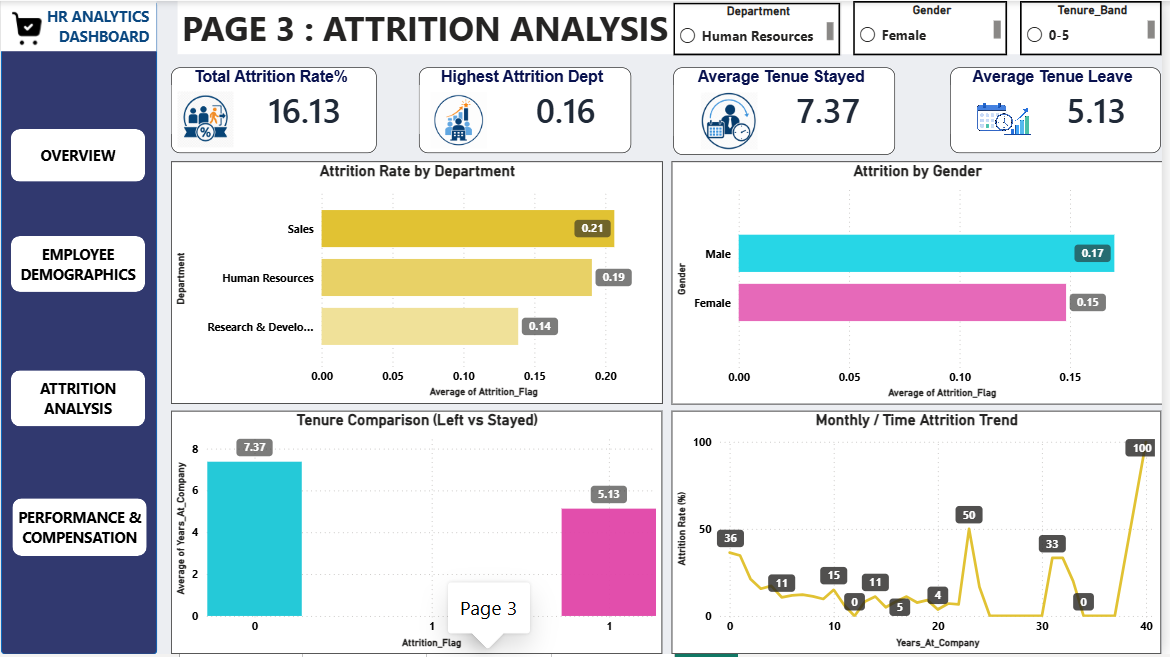

The dashboard page shown, as its layout file describes it:
{"tool":"powerbi","page":{"name":"Page 3","canvas":[1280,720],"ordinal":2},"visuals":[{"type":"shape","box":[0,0,172.3,720.6],"z":0},{"type":"textbox","box":[195.1,0,1087.8,58.5],"z":1000},{"type":"cardVisual","title":"Total Attrition Rate%","fields":{"Data":["Excel_HR_Cleaned_Data.Attrition Rate (%)"]},"box":[187.5,73.2,226.8,94.7],"z":2000},{"type":"cardVisual","title":"Average Tenue Stayed","fields":{"Data":["Excel_HR_Cleaned_Data.AverageTenure_Stayed"]},"box":[741.2,73.2,244.7,96.4],"z":3000},{"type":"cardVisual","title":"Highest Attrition Dept","fields":{"Data":["Excel_HR_Cleaned_Data.Department with Highest Attrition"]},"box":[460.8,73.2,234,94.7],"z":4000},{"type":"cardVisual","title":"Average Tenue Leave","fields":{"Data":["Excel_HR_Cleaned_Data.AverageTenure_Left"]},"box":[1046.5,73.2,232.2,94.7],"z":5000},{"type":"clusteredBarChart","title":"Attrition Rate by Department","fields":{"Category":["Excel_HR_Cleaned_Data.Department"],"Y":["Avg(Excel_HR_Cleaned_Data.Attrition_Flag)"]},"box":[187.5,176.8,542,267],"z":6000},{"type":"clusteredBarChart","title":"Attrition by Gender","fields":{"Category":["Excel_HR_Cleaned_Data.Gender"],"Y":["Avg(Excel_HR_Cleaned_Data.Attrition_Flag)"]},"box":[739.4,176.8,541.1,267.9],"z":7000},{"type":"clusteredColumnChart","title":"Tenure Comparison (Left vs Stayed)","fields":{"Category":["Excel_HR_Cleaned_Data.Attrition_Flag"],"Y":["Avg(Excel_HR_Cleaned_Data.Years_At_Company)"]},"box":[187.5,451.8,541.1,267.9],"z":8000},{"type":"lineChart","title":"Monthly / Time Attrition Trend","fields":{"Category":["Excel_HR_Cleaned_Data.Years_At_Company"],"Y":["Excel_HR_Cleaned_Data.Attrition Rate (%)"]},"box":[739.4,451.8,539.3,267.9],"z":9000},{"type":"actionButton","box":[12.4,548.9,148.3,63.5],"z":10000},{"type":"actionButton","box":[10.6,407.7,148.3,61.8],"z":11000},{"type":"actionButton","box":[10.6,259.4,148.3,61.8],"z":12000},{"type":"actionButton","box":[10.6,141.2,148.3,58.2],"z":13000},{"type":"actionButton","box":[0,0,171.4,55.4],"z":14000},{"type":"image","box":[195.3,94.7,61.9,71.5],"z":15000},{"type":"image","box":[473.3,94.7,62.5,73.2],"z":16000},{"type":"image","box":[1060.8,98.2,87.5,67.9],"z":17000},{"type":"listSlicer","fields":{"Values":["Excel_HR_Cleaned_Data.Department"]},"box":[742,2,184,58],"z":18000},{"type":"listSlicer","fields":{"Values":["Excel_HR_Cleaned_Data.Tenure_Band"]},"box":[1124,0,156,60],"z":19000},{"type":"listSlicer","fields":{"Values":["Excel_HR_Cleaned_Data.Gender"]},"box":[940,0,170,60],"z":20000},{"type":"image","box":[771.5,98.2,62.5,67.9],"z":20001}]}

Visuals, with their boxes on the page's 1280x720 design canvas (x1, y1, x2, y2). These are canvas units, not pixel positions in the 1170x657 screenshot, which may show the page scaled, cropped or inside an application window:
shape: box(0, 0, 172, 721)
textbox: box(195, 0, 1283, 58)
"Total Attrition Rate%" cardVisual: box(188, 73, 414, 168)
"Average Tenue Stayed" cardVisual: box(741, 73, 986, 170)
"Highest Attrition Dept" cardVisual: box(461, 73, 695, 168)
"Average Tenue Leave" cardVisual: box(1046, 73, 1279, 168)
"Attrition Rate by Department" clusteredBarChart: box(188, 177, 730, 444)
"Attrition by Gender" clusteredBarChart: box(739, 177, 1280, 445)
"Tenure Comparison (Left vs Stayed)" clusteredColumnChart: box(188, 452, 729, 720)
"Monthly / Time Attrition Trend" lineChart: box(739, 452, 1279, 720)
actionButton: box(12, 549, 161, 612)
actionButton: box(11, 408, 159, 470)
actionButton: box(11, 259, 159, 321)
actionButton: box(11, 141, 159, 199)
actionButton: box(0, 0, 171, 55)
image: box(195, 95, 257, 166)
image: box(473, 95, 536, 168)
image: box(1061, 98, 1148, 166)
listSlicer - Excel_HR_Cleaned_Data.Department: box(742, 2, 926, 60)
listSlicer - Excel_HR_Cleaned_Data.Tenure_Band: box(1124, 0, 1280, 60)
listSlicer - Excel_HR_Cleaned_Data.Gender: box(940, 0, 1110, 60)
image: box(772, 98, 834, 166)
